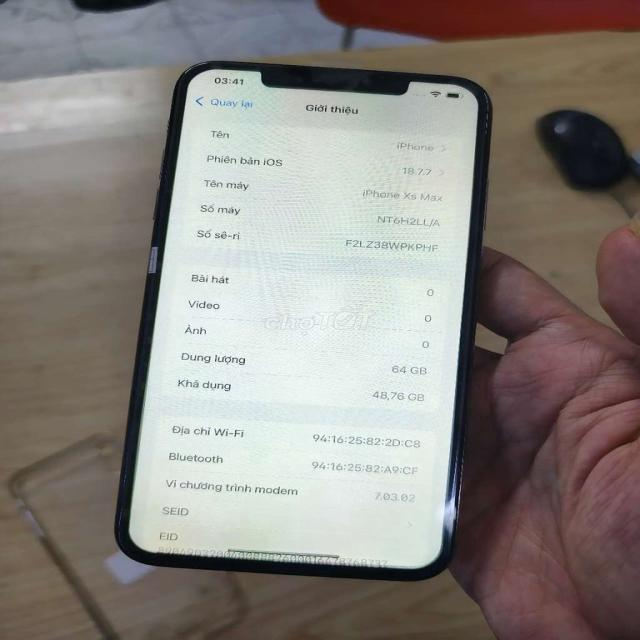gen_x_xs: (116, 61, 490, 579)
